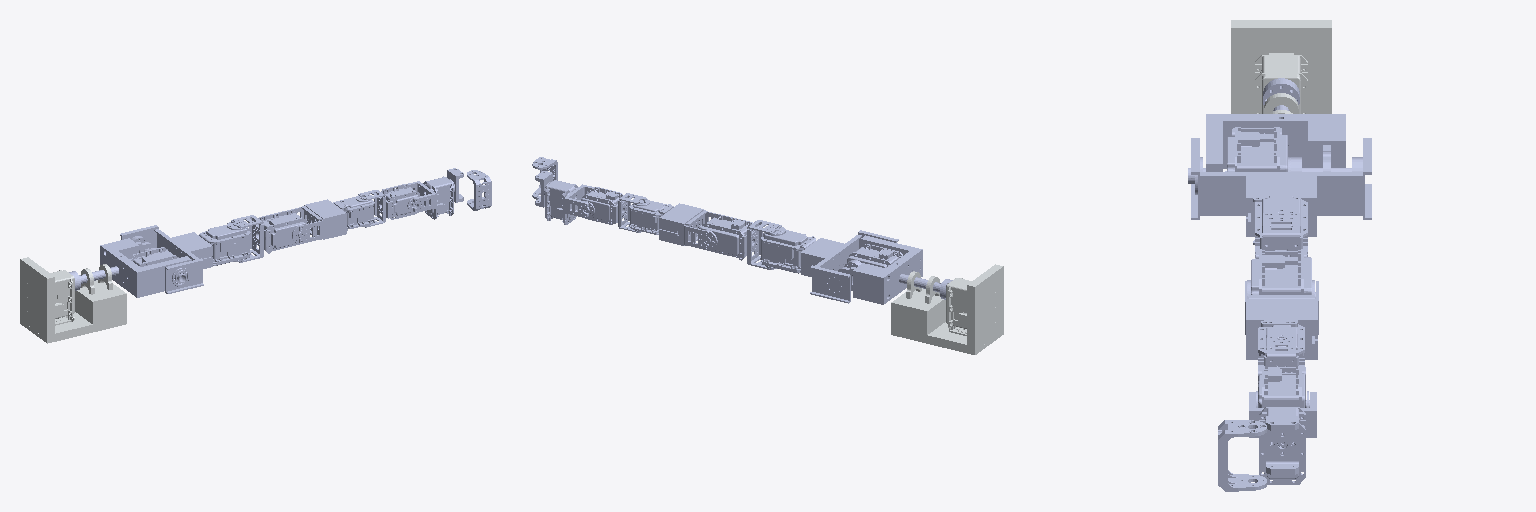
URDF robot description (finalasm):
<robot
  name="finalasm">



  <!-- Used for fixing robot to Gazebo 'base_link' -->
  <link name="world"/>

  <joint name="fixed" type="fixed">
    <parent link="world"/>
    <child link="base_link"/>
  </joint>


  <link
    name="base_link">
    <inertial>
      <origin
        xyz="0.0657435992941309 0.0321026763828113 2.50206915785742E-06"
        rpy="0 0 0" />
      <mass
        value="1.10920648420033" />
      <inertia
        ixx="0.00116940616209063"
        ixy="-0.000335388558117295"
        ixz="-8.12145868023127E-08"
        iyy="0.00259388525589382"
        iyz="-5.03777550099755E-08"
        izz="0.00279542582735697" />
    </inertial>
    <visual>
      <origin
        xyz="0 0 0"
        rpy="0 0 0" />
      <geometry>
        <mesh
          filename="package://finalasm/meshes/base_link.STL" />
      </geometry>
      <material
        name="">
        <color
          rgba="0.894117647058823 0.913725490196078 0.929411764705882 1" />
      </material>
    </visual>
    <collision>
      <origin
        xyz="0 0 0"
        rpy="0 0 0" />
      <geometry>
        <mesh
          filename="package://finalasm/meshes/base_link.STL" />
      </geometry>
    </collision>
  </link>
  <link
    name="link_2">
    <inertial>
      <origin
        xyz="0.00623194145048334 -0.109630071775746 6.16564908295647E-06"
        rpy="0 0 0" />
      <mass
        value="0.471732731407009" />
      <inertia
        ixx="0.00043598698800203"
        ixy="-8.18101024307166E-05"
        ixz="3.03857155322597E-08"
        iyy="0.000642981767582138"
        iyz="6.21274687838699E-08"
        izz="0.000966618386152303" />
    </inertial>
    <visual>
      <origin
        xyz="0 0 0"
        rpy="0 0 0" />
      <geometry>
        <mesh
          filename="package://finalasm/meshes/link_2.STL" />
      </geometry>
      <material
        name="">
        <color
          rgba="0.792156862745098 0.819607843137255 0.933333333333333 1" />
      </material>
    </visual>
    <collision>
      <origin
        xyz="0 0 0"
        rpy="0 0 0" />
      <geometry>
        <mesh
          filename="package://finalasm/meshes/link_2.STL" />
      </geometry>
    </collision>
  </link>
  <joint
    name="joint_1"
    type="revolute">
    <origin
      xyz="0.058 0 0.0672"
      rpy="3.1416 -6.123E-17 -1.5708" />
    <parent
      link="base_link" />
    <child
      link="link_2" />
    <axis
      xyz="0 -1 0" />
    <limit
      lower="-2.1"
      upper="2.1"
      effort="6"
      velocity="1" />
  </joint>
  <link
    name="link_3">
    <inertial>
      <origin
        xyz="-1.4174944178269E-05 0.00264246696370786 0.0631755073826014"
        rpy="0 0 0" />
      <mass
        value="0.230539573640638" />
      <inertia
        ixx="0.000652518497338707"
        ixy="8.47977971034165E-09"
        ixz="2.18571759412113E-07"
        iyy="0.000478995922449046"
        iyz="-3.78817006134333E-05"
        izz="0.000236315003293038" />
    </inertial>
    <visual>
      <origin
        xyz="0 0 0"
        rpy="0 0 0" />
      <geometry>
        <mesh
          filename="package://finalasm/meshes/link_3.STL" />
      </geometry>
      <material
        name="">
        <color
          rgba="0.792156862745098 0.819607843137255 0.933333333333333 1" />
      </material>
    </visual>
    <collision>
      <origin
        xyz="0 0 0"
        rpy="0 0 0" />
      <geometry>
        <mesh
          filename="package://finalasm/meshes/link_3.STL" />
      </geometry>
    </collision>
  </link>
  <joint
    name="joint_2"
    type="revolute">
    <origin
      xyz="0 -0.14565 0"
      rpy="1.5708 -1.5708 0" />
    <parent
      link="link_2" />
    <child
      link="link_3" />
    <axis
      xyz="0 1 0" />
    <limit
      lower="-2"
      upper="2"
      effort="6"
      velocity="1" />
  </joint>
  <link
    name="link_4">
    <inertial>
      <origin
        xyz="4.10384971617116E-05 -0.000171450715305263 0.0677477888585321"
        rpy="0 0 0" />
      <mass
        value="0.0971248042822277" />
      <inertia
        ixx="7.0533041896389E-05"
        ixy="-2.28665822343197E-09"
        ixz="-4.3570185443232E-07"
        iyy="7.43710318847513E-05"
        iyz="-9.12340187630138E-08"
        izz="2.87004147259665E-05" />
    </inertial>
    <visual>
      <origin
        xyz="0 0 0"
        rpy="0 0 0" />
      <geometry>
        <mesh
          filename="package://finalasm/meshes/link_4.STL" />
      </geometry>
      <material
        name="">
        <color
          rgba="0.792156862745098 0.819607843137255 0.933333333333333 1" />
      </material>
    </visual>
    <collision>
      <origin
        xyz="0 0 0"
        rpy="0 0 0" />
      <geometry>
        <mesh
          filename="package://finalasm/meshes/link_4.STL" />
      </geometry>
    </collision>
  </link>
  <joint
    name="joint_3"
    type="revolute">
    <origin
      xyz="0 0 0.1286"
      rpy="-2.7756E-15 -2.0812E-47 -1.5708" />
    <parent
      link="link_3" />
    <child
      link="link_4" />
    <axis
      xyz="0 -1 0" />
    <limit
      lower="-1.8"
      upper="1.8"
      effort="6"
      velocity="1" />
  </joint>
  <link
    name="link_5">
    <inertial>
      <origin
        xyz="0.0703070404251808 6.31790882615605E-05 1.26717083493988E-05"
        rpy="0 0 0" />
      <mass
        value="0.123326405816582" />
      <inertia
        ixx="3.63791196402984E-05"
        ixy="2.22795421044366E-07"
        ixz="-1.47792692489334E-07"
        iyy="0.00012626914469489"
        iyz="-1.09536405961749E-08"
        izz="0.00013817442196856" />
    </inertial>
    <visual>
      <origin
        xyz="0 0 0"
        rpy="0 0 0" />
      <geometry>
        <mesh
          filename="package://finalasm/meshes/link_5.STL" />
      </geometry>
      <material
        name="">
        <color
          rgba="0.792156862745098 0.819607843137255 0.933333333333333 1" />
      </material>
    </visual>
    <collision>
      <origin
        xyz="0 0 0"
        rpy="0 0 0" />
      <geometry>
        <mesh
          filename="package://finalasm/meshes/link_5.STL" />
      </geometry>
    </collision>
  </link>
  <joint
    name="joint_4"
    type="revolute">
    <origin
      xyz="0 -0.00020003 0.0905"
      rpy="1.5708 -1.5708 0" />
    <parent
      link="link_4" />
    <child
      link="link_5" />
    <axis
      xyz="0 -1 0" />
    <limit
      lower="-1.8"
      upper="1.8"
      effort="6"
      velocity="1" />
  </joint>
  <link
    name="link_6">
    <inertial>
      <origin
        xyz="-2.68778574528747E-05 0.0183675036583099 0.0552579720439704"
        rpy="0 0 0" />
      <mass
        value="0.0511750168424243" />
      <inertia
        ixx="2.36027950135697E-05"
        ixy="-1.82655469485219E-10"
        ixz="1.74456286258475E-07"
        iyy="2.45644732163481E-05"
        iyz="2.9630224652712E-07"
        izz="9.96833356911432E-06" />
    </inertial>
    <visual>
      <origin
        xyz="0 0 0"
        rpy="0 0 0" />
      <geometry>
        <mesh
          filename="package://finalasm/meshes/link_6.STL" />
      </geometry>
      <material
        name="">
        <color
          rgba="0.792156862745098 0.819607843137255 0.933333333333333 1" />
      </material>
    </visual>
    <collision>
      <origin
        xyz="0 0 0"
        rpy="0 0 0" />
      <geometry>
        <mesh
          filename="package://finalasm/meshes/link_6.STL" />
      </geometry>
    </collision>
  </link>
  <joint
    name="joint_5"
    type="revolute">
    <origin
      xyz="0.1169 0.00019755 -0.01875"
      rpy="1.5708 0 1.5708" />
    <parent
      link="link_5" />
    <child
      link="link_6" />
    <axis
      xyz="0 1 0" />
    <limit
      lower="-1.8"
      upper="1.8"
      effort="6"
      velocity="1" />
  </joint>
  <link
    name="link_7">
    <inertial>
      <origin
        xyz="-0.00629355991792452 -0.017930911235571 -0.0442792262153655"
        rpy="0 0 0" />
      <mass
        value="0.055642394884242" />
      <inertia
        ixx="2.33808911540242E-05"
        ixy="2.41952624213128E-08"
        ixz="2.17744084459433E-06"
        iyy="2.45952256871399E-05"
        iyz="1.69291377261494E-07"
        izz="1.60747813149391E-05" />
    </inertial>
    <visual>
      <origin
        xyz="0 0 0"
        rpy="0 0 0" />
      <geometry>
        <mesh
          filename="package://finalasm/meshes/link_7.STL" />
      </geometry>
      <material
        name="">
        <color
          rgba="0.792156862745098 0.819607843137255 0.933333333333333 1" />
      </material>
    </visual>
    <collision>
      <origin
        xyz="0 0 0"
        rpy="0 0 0" />
      <geometry>
        <mesh
          filename="package://finalasm/meshes/link_7.STL" />
      </geometry>
    </collision>
  </link>
  <joint
    name="joint_6"
    type="revolute">
    <origin
      xyz="0.01875 0.0185 0.0728"
      rpy="3.1416 -2.2204E-14 1.5708" />
    <parent
      link="link_6" />
    <child
      link="link_7" />
    <axis
      xyz="0 -1 0" />
    <limit
      lower="-1.8"
      upper="1.8"
      effort="6"
      velocity="1" />
  </joint>
  <link
    name="link_8">
    <inertial>
      <origin
        xyz="1.43062187855751E-10 -0.00618516265998337 6.1943593925029E-06"
        rpy="0 0 0" />
      <mass
        value="0.0079114512462284" />
      <inertia
        ixx="1.6682426451027E-06"
        ixy="1.58058743902357E-16"
        ixz="1.44663183892758E-17"
        iyy="1.9348211205839E-06"
        iyz="2.55116963459817E-10"
        izz="5.25024182947632E-07" />
    </inertial>
    <visual>
      <origin
        xyz="0 0 0"
        rpy="0 0 0" />
      <geometry>
        <mesh
          filename="package://finalasm/meshes/link_8.STL" />
      </geometry>
      <material
        name="">
        <color
          rgba="0.792156862745098 0.819607843137255 0.933333333333333 1" />
      </material>
    </visual>
    <collision>
      <origin
        xyz="0 0 0"
        rpy="0 0 0" />
      <geometry>
        <mesh
          filename="package://finalasm/meshes/link_8.STL" />
      </geometry>
    </collision>
  </link>
  <joint
    name="joint_7"
    type="revolute">
    <origin
      xyz="0.0035 -0.018 -0.07"
      rpy="1.5708 6.5052E-17 1.5708" />
    <parent
      link="link_7" />
    <child
      link="link_8" />
    <axis
      xyz="0 -1 0" />
    <limit
      lower="-1.8"
      upper="1.8"
      effort="6"
      velocity="1" />
  </joint>
  <link
    name="link_9">
    <inertial>
      <origin
        xyz="3.18822355904747E-07 2.27008447939436E-06 0.0150804545456978"
        rpy="0 0 0" />
      <mass
        value="0.0072913429879866" />
      <inertia
        ixx="1.22579554311407E-06"
        ixy="5.17158717639898E-13"
        ixz="-2.50052583465586E-11"
        iyy="3.23550320617183E-06"
        iyz="1.58942365493815E-10"
        izz="2.87654487939412E-06" />
    </inertial>
    <visual>
      <origin
        xyz="0 0 0"
        rpy="0 0 0" />
      <geometry>
        <mesh
          filename="package://finalasm/meshes/link_9.STL" />
      </geometry>
      <material
        name="">
        <color
          rgba="0.792156862745098 0.819607843137255 0.933333333333333 1" />
      </material>
    </visual>
    <collision>
      <origin
        xyz="0 0 0"
        rpy="0 0 0" />
      <geometry>
        <mesh
          filename="package://finalasm/meshes/link_9.STL" />
      </geometry>
    </collision>
  </link>
  <joint
    name="joint_8"
    type="revolute">
    <origin
      xyz="-0.0225 -0.027 -0.00023"
      rpy="3.1416 1.5708 0" />
    <parent
      link="link_8" />
    <child
      link="link_9" />
    <axis
      xyz="-1 0 0" />
    <limit
      lower="-1.8"
      upper="1.8"
      effort="6"
      velocity="1" />
  </joint>
</robot>

--- What the picture shows (computed from the rendered views, not written in the file) ---
3 views of the same robot in one strip: view 1: azimuth 30°, elevation 25°; view 2: azimuth 150°, elevation 25°; view 3: azimuth 270°, elevation 25° (orthographic).
Model finalasm with 10 links and 9 joints (8 revolute, 1 fixed), rooted at world, posed all joints at 0.
Links seen in each view (by area): view 1: base_link, link_3, link_2, link_5, link_4, link_7, link_6, link_9; view 2: base_link, link_3, link_2, link_5, link_4, link_7, link_6; view 3: link_3, base_link, link_2, link_5, link_4, link_6, link_7, link_8, link_9.
Boxes of the visible links, bbox=[...] form: base_link: bbox=[20, 257, 126, 343]; link_3: bbox=[120, 225, 250, 293]; link_2: bbox=[69, 238, 191, 297]; link_5: bbox=[291, 197, 374, 243]; link_4: bbox=[227, 210, 306, 262]; link_7: bbox=[407, 176, 453, 219]; link_6: bbox=[356, 184, 419, 227]; link_9: bbox=[467, 170, 491, 210]; base_link: bbox=[891, 264, 1003, 354]; link_3: bbox=[761, 230, 898, 303]; link_2: bbox=[838, 235, 952, 304]; link_5: bbox=[629, 200, 717, 250]; link_4: bbox=[700, 214, 785, 269]; link_7: bbox=[545, 180, 597, 224]; link_6: bbox=[581, 187, 649, 232]; link_3: bbox=[1191, 138, 1371, 258]; base_link: bbox=[1231, 20, 1331, 113]; link_2: bbox=[1188, 78, 1345, 183]; link_5: bbox=[1245, 280, 1318, 366]; link_4: bbox=[1251, 209, 1311, 294]; link_6: bbox=[1258, 334, 1305, 407]; link_7: bbox=[1249, 391, 1316, 484]; link_8: bbox=[1266, 416, 1298, 474]; link_9: bbox=[1218, 420, 1266, 491].
Bounding box of the posed robot: 0.722 × 0.1385 × 0.1016 m (x, y, z).
Meshes: 9 distinct files referenced, 9 mesh visuals loaded (9 binary STL).